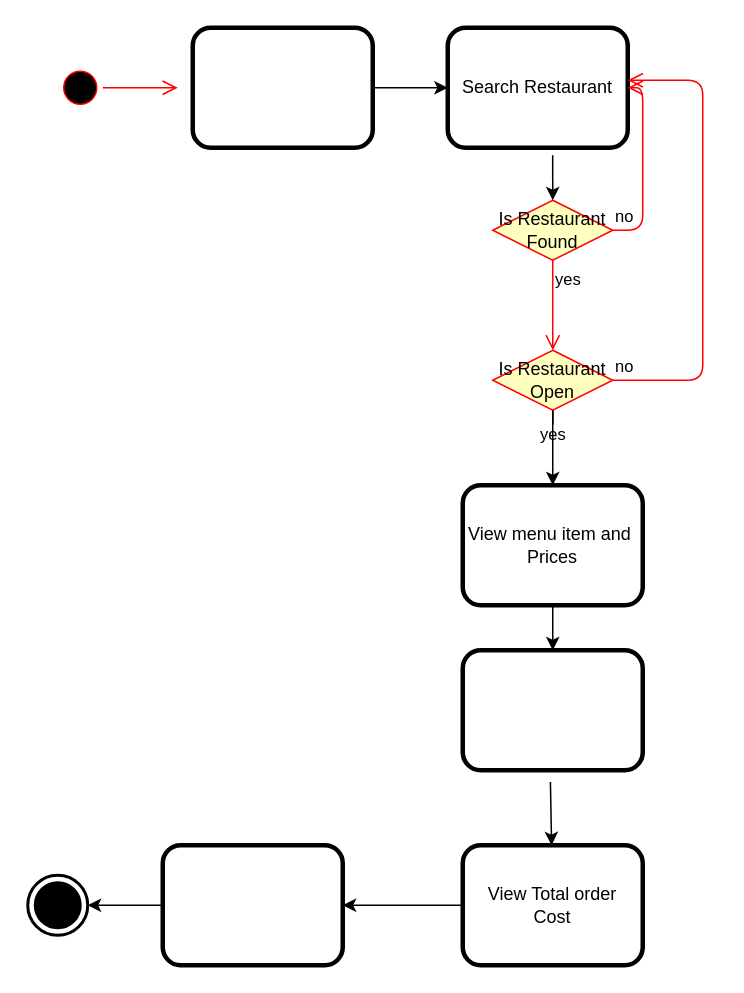
Image size: 744x993. Some labels were removed from this diagram. The centre of each missing label's shape, as x and y in pixels:
"Login" belongs at point 282,87.
"Logout" belongs at point 252,904.
"Select/Add menu items" belongs at point 552,709.
